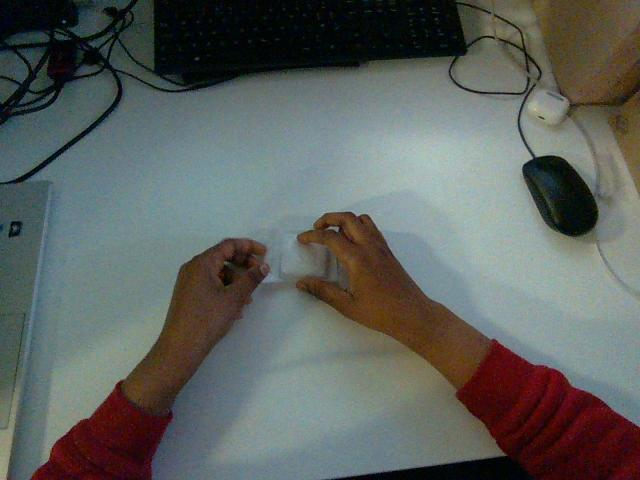gauze: (265, 231, 335, 282)
